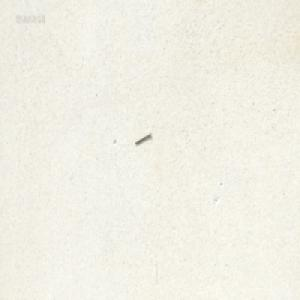Bolt: (134, 131, 151, 145)
